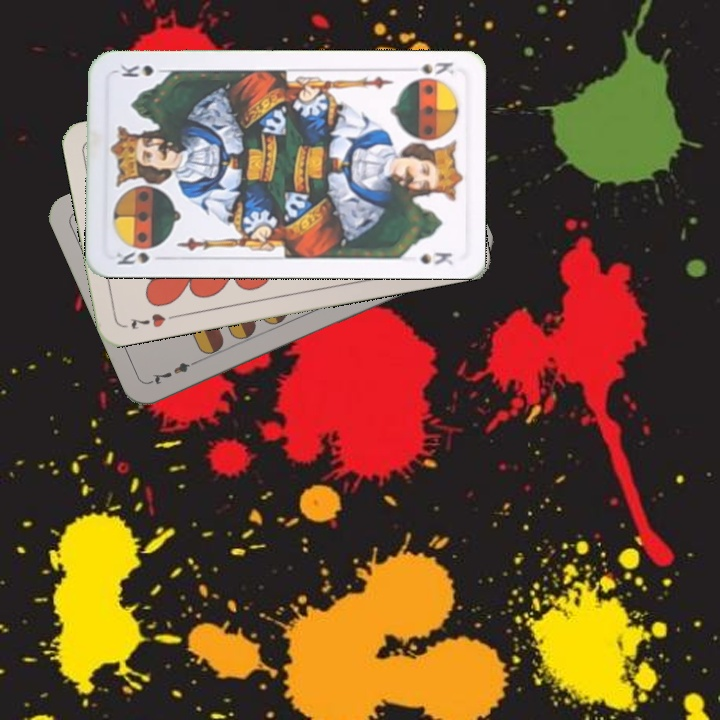E7: (146, 355, 202, 388)
H7: (127, 309, 180, 332)
SK: (401, 57, 457, 77), (112, 247, 152, 267)
